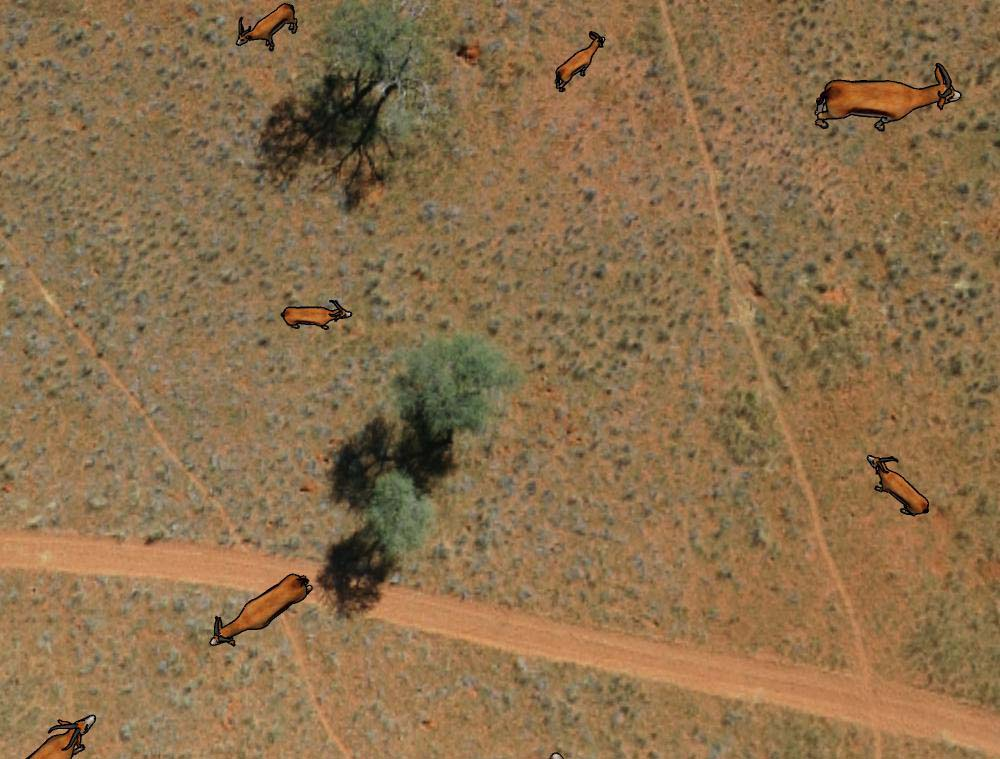springbok: (812, 60, 965, 138), (207, 569, 316, 645), (863, 448, 934, 525), (13, 708, 100, 759), (276, 291, 356, 336), (548, 30, 605, 92), (233, 1, 301, 52)
